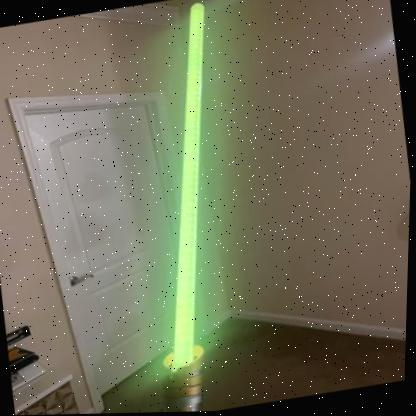lightsaber: (102, 0, 262, 413)
